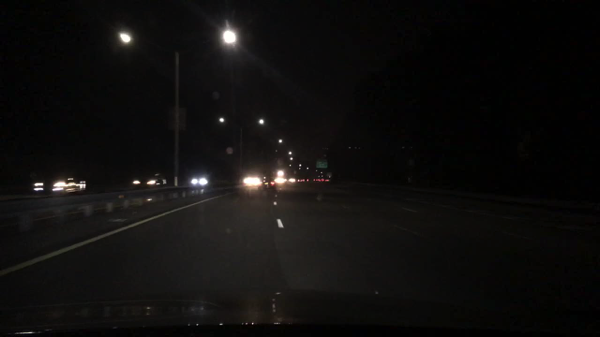car: (32, 167, 88, 197), (131, 171, 167, 189), (188, 172, 211, 189), (242, 175, 260, 188), (260, 178, 274, 191), (274, 177, 287, 184)
traffic sign: (167, 107, 186, 132), (315, 157, 327, 169)
